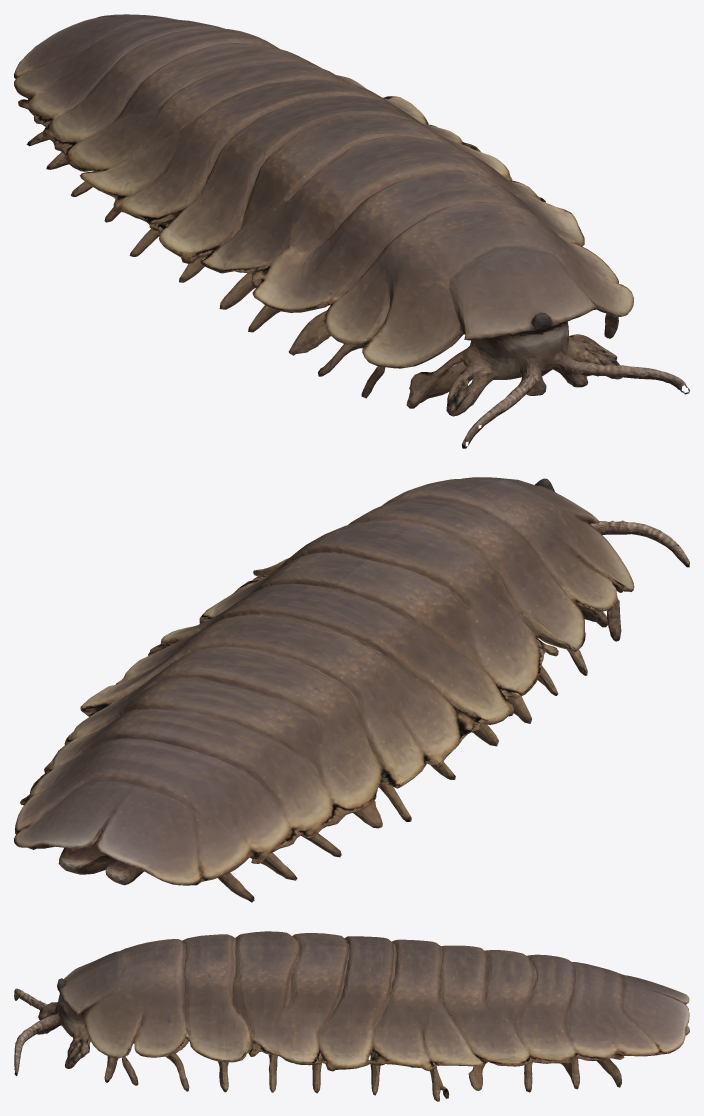
3 views of the same model, one above another, from view 1: azimuth 30°, elevation 25°; view 2: azimuth 150°, elevation 25°; view 3: azimuth 270°, elevation 25° (orthographic). The views are drawn at different scales.
Visible parts, largest first — view 1: world; view 2: world; view 3: world.
Part boxes in pixels (x1=…): world: x1=14, y1=14, x2=689, y2=448; world: x1=14, y1=477, x2=689, y2=902; world: x1=14, y1=931, x2=689, y2=1101.
Bounding box in the file's own units: 0.8071 × 0.3641 × 2.01.
Materials: 1 (1 with a texture image).
